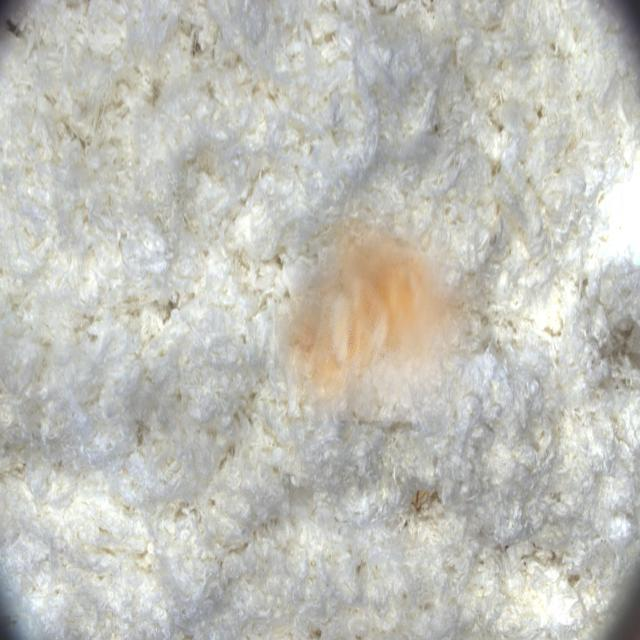dust: (275, 187, 491, 421)
